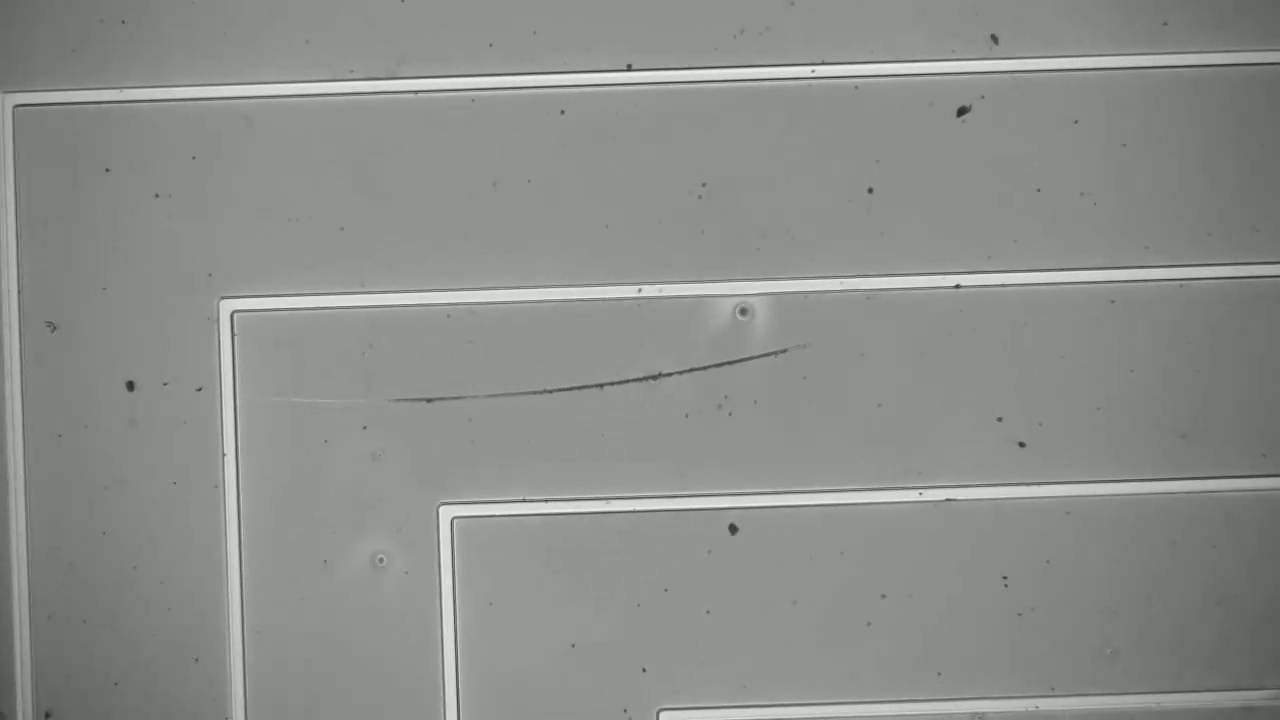scratch: (390, 347, 792, 427)
